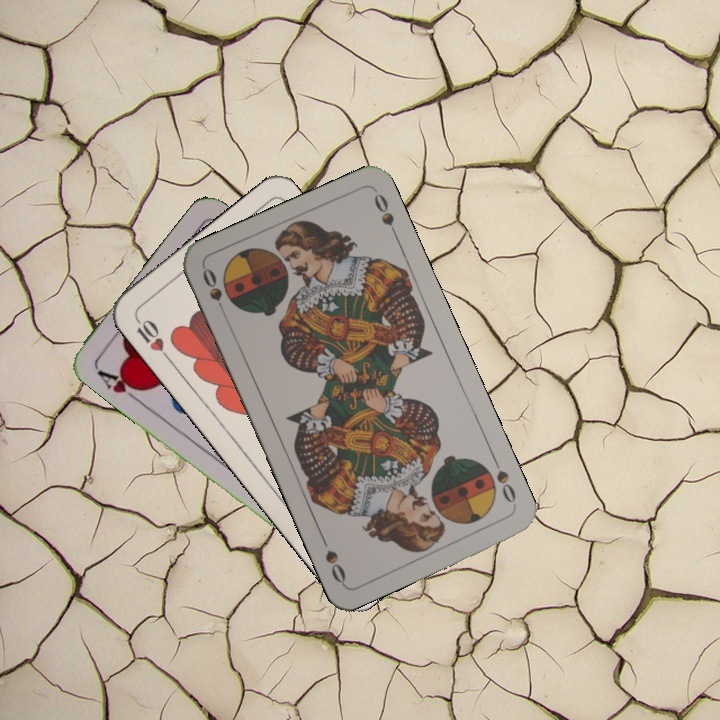H10: (131, 313, 173, 363)
HA: (93, 365, 148, 405)
SO: (198, 263, 229, 321), (489, 453, 519, 510)
